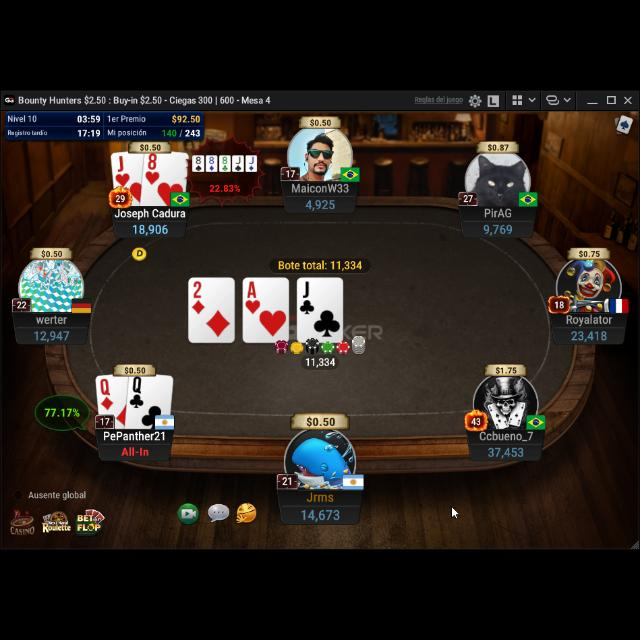2d: (190, 278, 206, 316)
8h: (144, 153, 160, 187)
Ah: (244, 279, 262, 315)
Jc: (298, 278, 316, 316)
Jh: (115, 152, 131, 188)
Qc: (128, 374, 146, 411)
Qd: (98, 376, 115, 412)
Tc: (128, 374, 146, 410)
all_in_symbol: (120, 444, 150, 458)
bet_text: (304, 354, 336, 368)
dealer: (130, 245, 148, 261), (526, 416, 546, 428)
pot_text: (279, 258, 363, 270)
stack_text: (299, 505, 341, 523), (131, 220, 169, 236), (33, 327, 71, 343), (486, 443, 524, 457), (304, 196, 336, 212), (569, 328, 609, 340), (483, 222, 513, 236)
